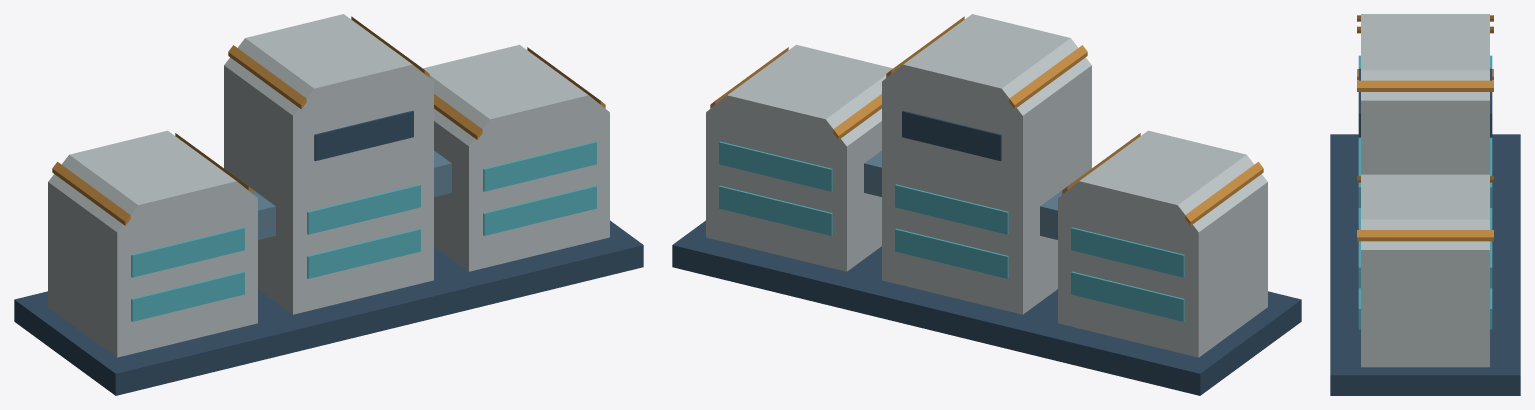
File: SpaceStation_StationFacade_Standard.glb
The picture shows the model from 3 angles, left to right: view 1: azimuth 30°, elevation 25°; view 2: azimuth 150°, elevation 25°; view 3: azimuth 270°, elevation 25°; orthographic projection. The views are drawn at different scales.
Visible parts, largest first — view 1: SpaceStation_StationFacade_Standard; view 2: SpaceStation_StationFacade_Standard; view 3: SpaceStation_StationFacade_Standard.
Part boxes in pixels (x1=…): SpaceStation_StationFacade_Standard: x1=14, y1=14, x2=643, y2=395; SpaceStation_StationFacade_Standard: x1=672, y1=14, x2=1301, y2=395; SpaceStation_StationFacade_Standard: x1=1330, y1=14, x2=1520, y2=395.
Size of the model in its own units: 15 by 6.6 by 5.
